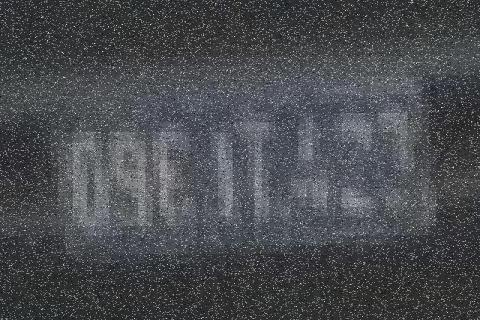LicensePlate: (41, 75, 458, 259)
